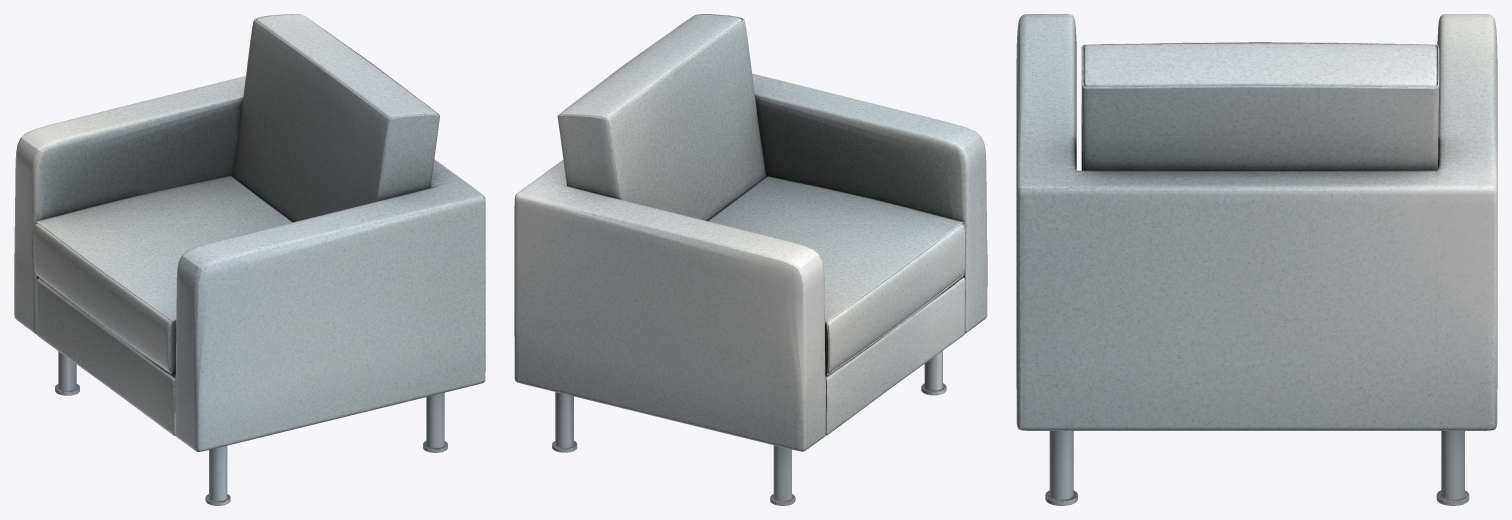
The model's file is baggio_i_red_chrome_plated.glb.
3 views of the same model, side by side, from view 1: azimuth 30°, elevation 25°; view 2: azimuth 150°, elevation 25°; view 3: azimuth 270°, elevation 25° (orthographic). The views are drawn at different scales.
Parts seen in each view (by area): view 1: baggio_i-white; view 2: baggio_i-white; view 3: baggio_i-white.
Boxes of the visible parts, x1,y1,x2,y2 form: baggio_i-white: (14, 14, 485, 505); baggio_i-white: (514, 14, 987, 505); baggio_i-white: (1016, 14, 1497, 505).
Size of the model in its own units: 0.7435 by 0.8056 by 0.81.
1 material, 1 textured.
